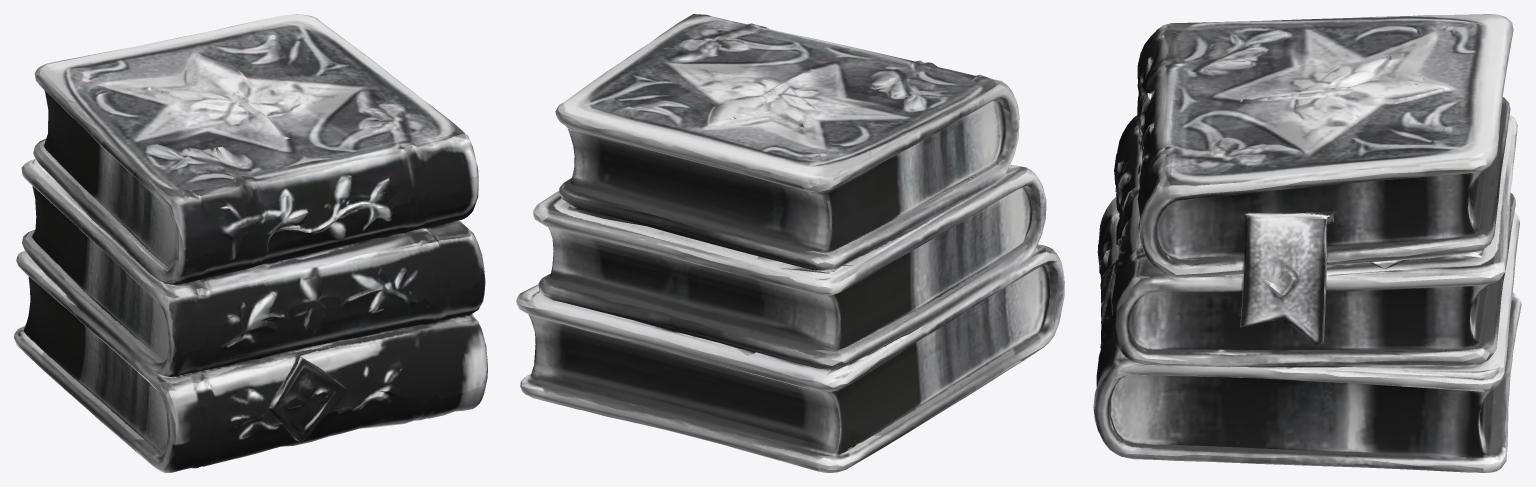
File: book-silver.glb
3 renders of one model, left to right at view 1: azimuth 30°, elevation 25°; view 2: azimuth 150°, elevation 25°; view 3: azimuth 270°, elevation 25°, orthographic. The views are drawn at different scales.
Visible parts, largest first — view 1: geometry_0; view 2: geometry_0; view 3: geometry_0.
Boxes of the visible parts, x1,y1,x2,y2 form: geometry_0: (14,14,487,472); geometry_0: (516,14,1064,472); geometry_0: (1093,14,1521,472).
Size of the model in its own units: 0.22 by 0.1708 by 0.2138.
1 material, 1 textured.
